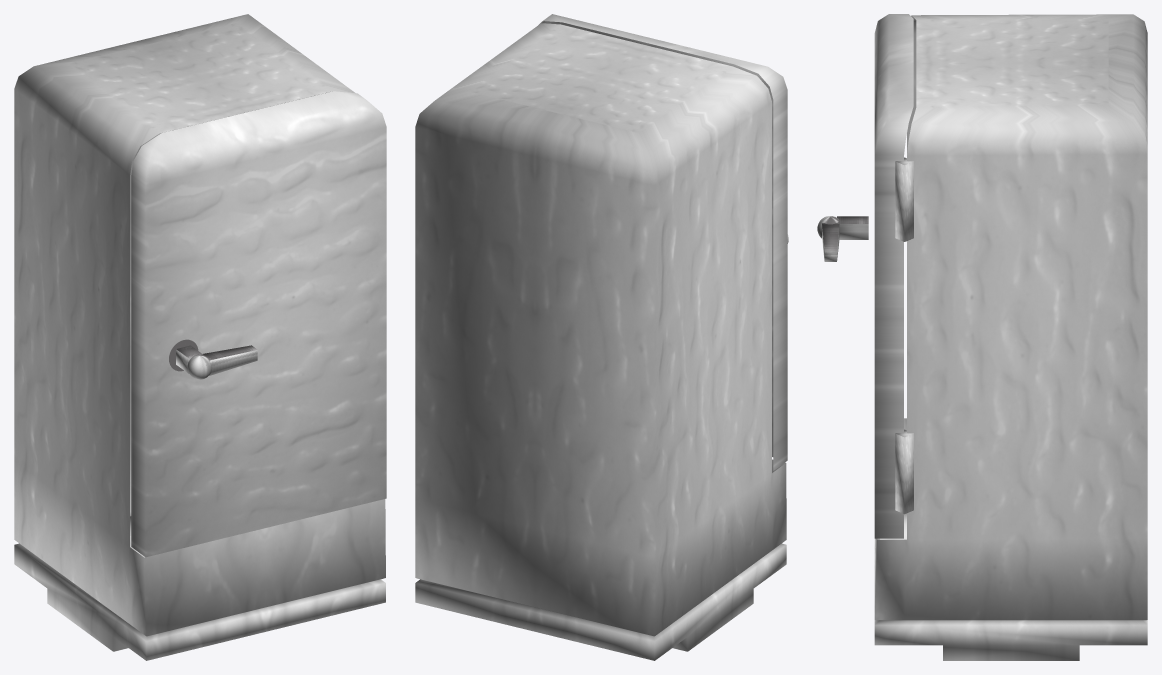
Rendered from Bedroom_fridge.glb.
The picture shows the model from 3 angles, left to right: view 1: azimuth 30°, elevation 25°; view 2: azimuth 150°, elevation 25°; view 3: azimuth 270°, elevation 25°; orthographic projection. The views are drawn at different scales.
Parts seen in each view (by area): view 1: Cube.050; view 2: Cube.050; view 3: Cube.050.
Boxes of the visible parts, <box> form: Cube.050: <box>14,14,386,660</box>; Cube.050: <box>415,14,788,660</box>; Cube.050: <box>817,14,1147,660</box>.
Bounding box in the file's own units: 2.18 × 4.35 × 2.42.
2 materials, 2 textured.
